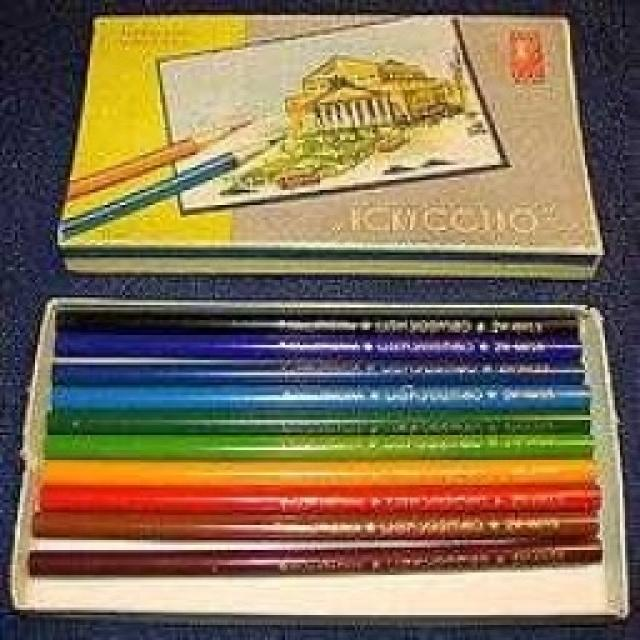pencil: (8, 292, 628, 622), (53, 8, 605, 280)
